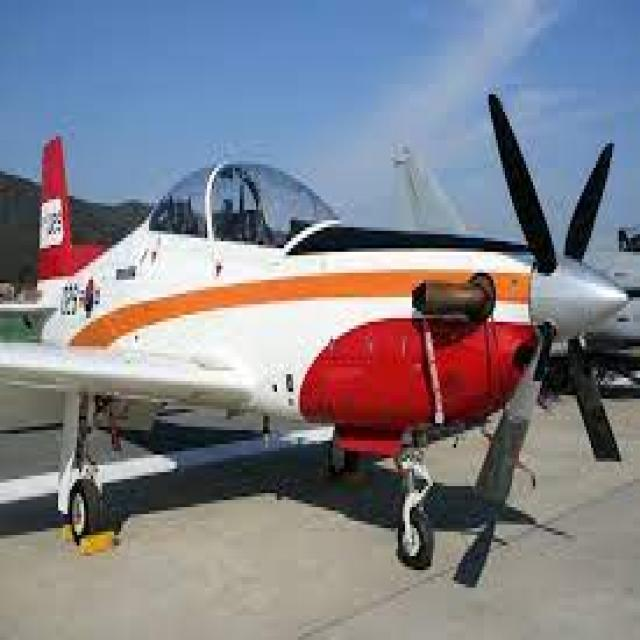KT-1: (7, 94, 638, 566)
